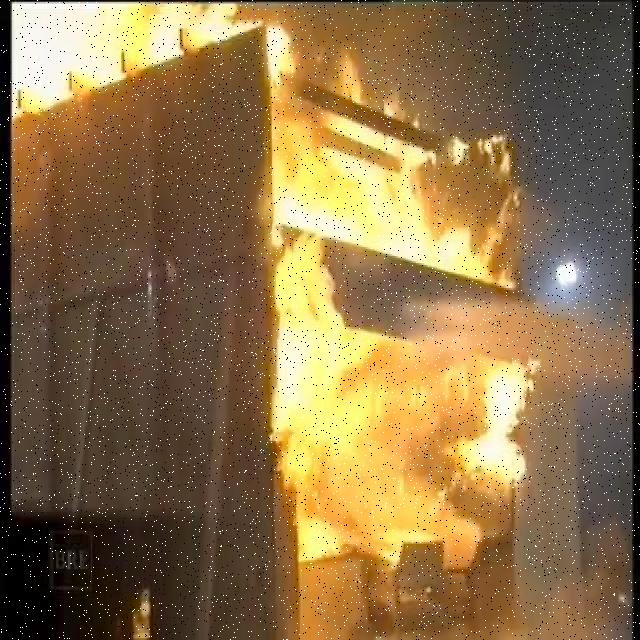fire: (27, 9, 540, 241), (269, 239, 558, 599)
